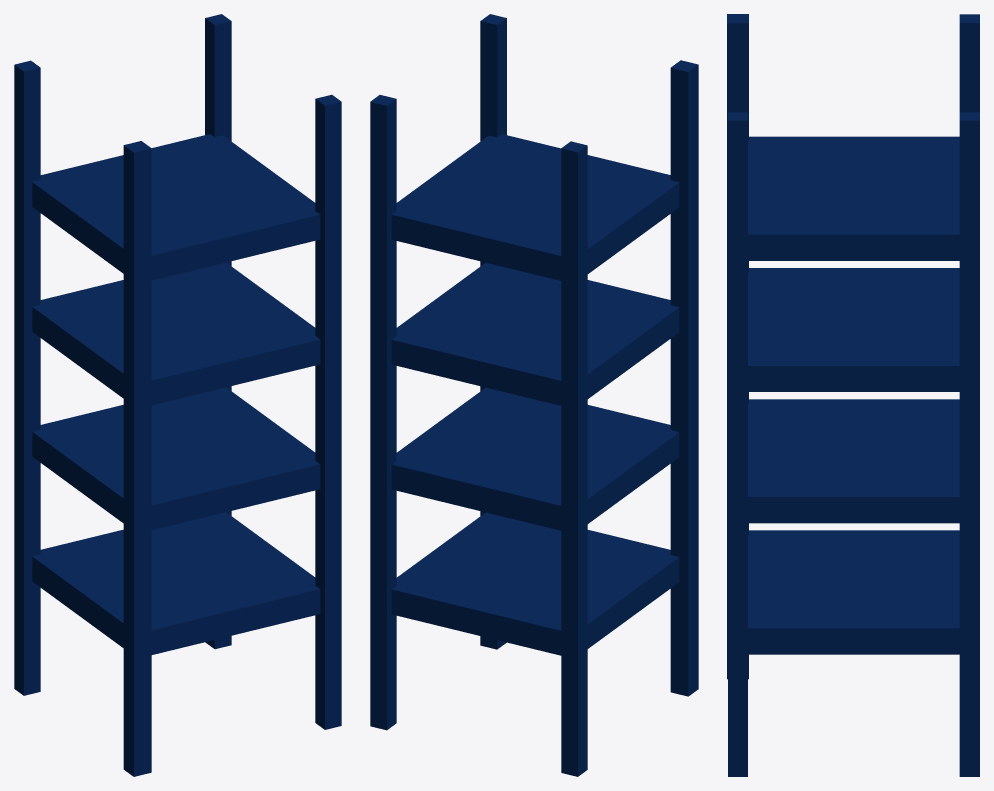
The picture shows the model from 3 angles, left to right: view 1: azimuth 30°, elevation 25°; view 2: azimuth 150°, elevation 25°; view 3: azimuth 270°, elevation 25°; orthographic projection. The views are drawn at different scales.
Visible parts, largest first — view 1: Box, Box.000, Box.002, Box.001, P4, P1, P3, P2; view 2: Box, Box.001, Box.002, Box.000, P4, P3, P2, P1; view 3: Box.001, Box, Box.002, Box.000, P2, P1, P4, P3.
Boxes of the visible parts, <box> form: Box: <box>32,134,320,280</box>; Box.000: <box>32,262,320,405</box>; Box.002: <box>32,512,320,654</box>; Box.001: <box>32,387,320,530</box>; P4: <box>123,141,151,776</box>; P1: <box>315,94,341,729</box>; P3: <box>14,60,40,695</box>; P2: <box>205,14,231,649</box>; Box: <box>391,134,679,280</box>; Box.001: <box>391,387,679,530</box>; Box.002: <box>391,512,679,655</box>; Box.000: <box>391,263,679,405</box>; P4: <box>670,60,698,696</box>; P3: <box>561,141,587,776</box>; P2: <box>370,95,396,730</box>; P1: <box>480,14,506,649</box>; Box.001: <box>748,399,959,523</box>; Box: <box>748,136,959,260</box>; Box.002: <box>748,530,959,654</box>; Box.000: <box>748,268,959,391</box>; P2: <box>959,112,979,776</box>; P1: <box>728,112,747,776</box>; P4: <box>727,14,748,679</box>; P3: <box>959,14,979,112</box>.
Bounding box in the file's own units: 0.8725 × 2.5 × 0.8725.
